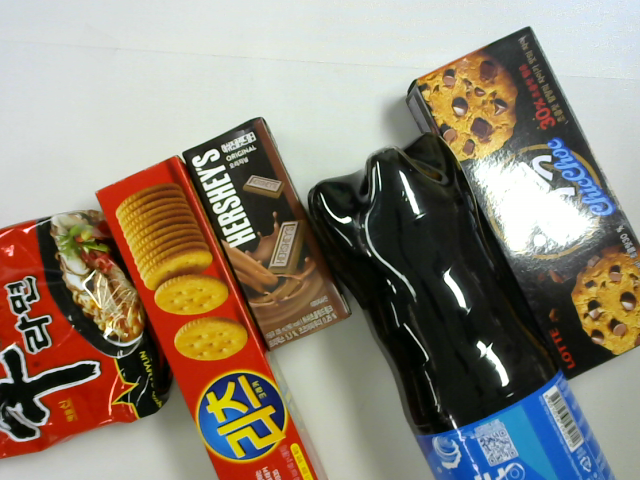Chicchok_Original_2400: (412, 28, 640, 372)
Hush_Choco_Drink: (187, 105, 342, 357)
Pepsi_Cola_1.5L: (327, 141, 613, 480)
Ritz_Cracker: (103, 167, 326, 480)
Sinramen: (1, 201, 166, 458)
